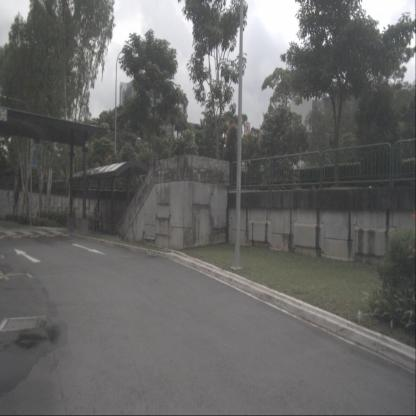human-pedestrian-adult: (93, 204, 100, 235)
